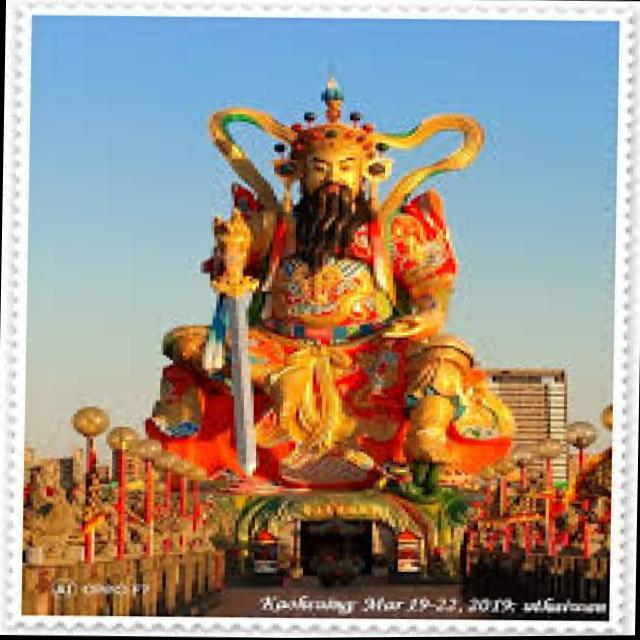Xuan wu: (204, 68, 486, 503)
